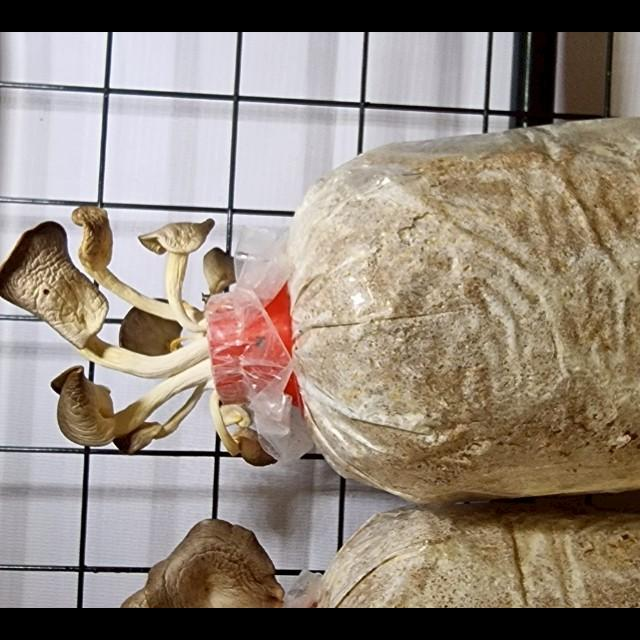abnormal: (0, 205, 230, 376), (72, 174, 208, 334), (38, 352, 218, 460), (135, 195, 217, 340), (205, 207, 248, 292)
